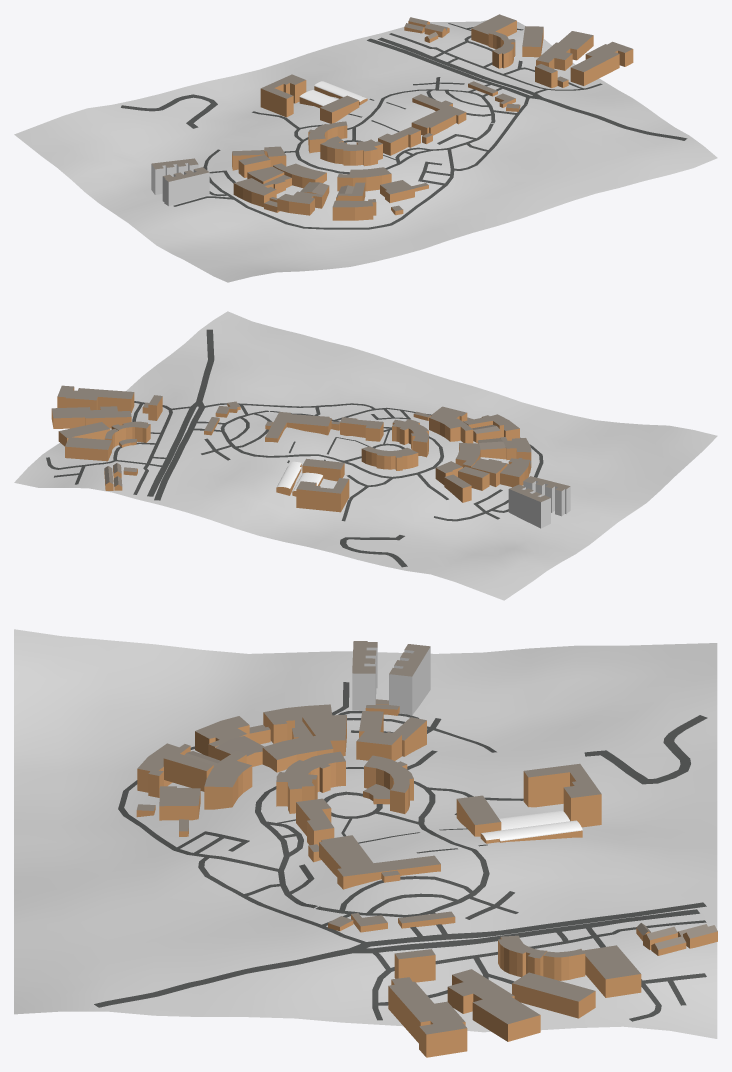
3 views of the same model, one above another, from view 1: azimuth 30°, elevation 25°; view 2: azimuth 150°, elevation 25°; view 3: azimuth 270°, elevation 25° (orthographic). The views are drawn at different scales.
Parts seen in each view (by area): view 1: Terrain, map.osm_buildings, map.osm_roads_service, map.osm_roads_residential; view 2: Terrain, map.osm_buildings, map.osm_roads_service, map.osm_roads_residential; view 3: Terrain, map.osm_buildings, map.osm_roads_service, map.osm_roads_residential.
Part boxes in pixels (box(x1,y1,x2,y2)): Terrain: box(14, 20, 717, 282); map.osm_buildings: box(151, 14, 633, 220); map.osm_roads_service: box(173, 23, 602, 229); map.osm_roads_residential: box(121, 37, 687, 140); Terrain: box(14, 311, 717, 600); map.osm_buildings: box(51, 385, 570, 528); map.osm_roads_service: box(46, 401, 543, 521); map.osm_roads_residential: box(147, 329, 407, 567); Terrain: box(14, 629, 717, 1038); map.osm_buildings: box(136, 641, 717, 1057); map.osm_roads_service: box(118, 682, 706, 1021); map.osm_roads_residential: box(94, 715, 707, 1007).
Bounding box in the file's own units: 66491 × 4295 × 46434.
